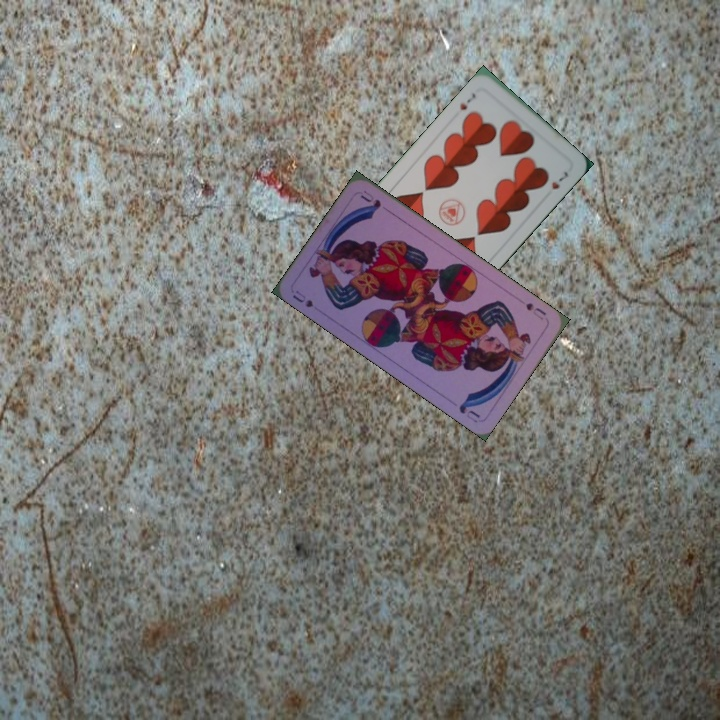H7: (456, 88, 479, 113)
SU: (522, 298, 549, 323), (288, 286, 316, 310)
